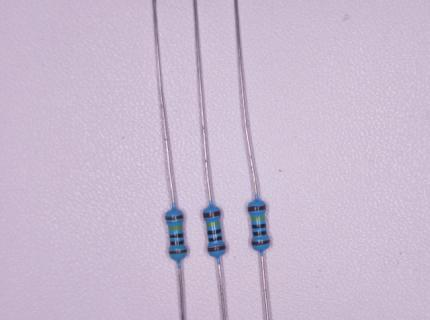Black band: (170, 233, 184, 239), (209, 236, 223, 242), (208, 229, 221, 235), (252, 224, 266, 229), (171, 240, 184, 245), (254, 231, 267, 236)
Brown band: (204, 211, 221, 218), (208, 246, 226, 252), (165, 215, 183, 220), (249, 206, 266, 211), (252, 241, 270, 245), (169, 250, 187, 254)
Yellow band: (207, 222, 221, 227), (169, 226, 183, 230), (252, 216, 265, 220)
